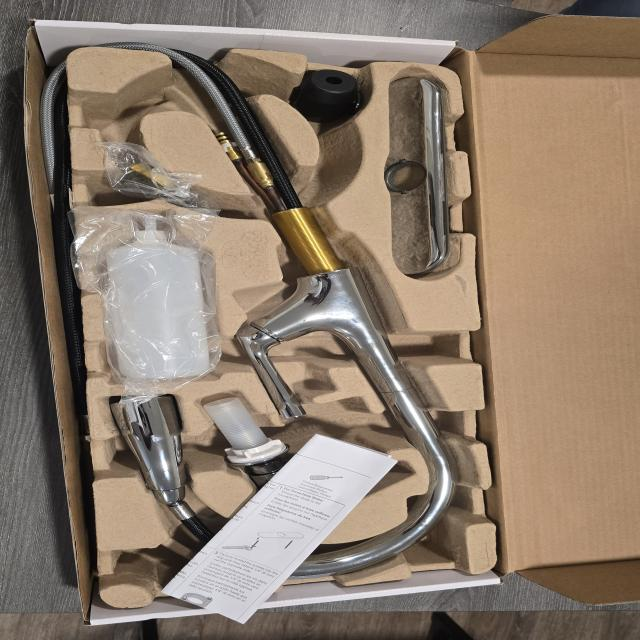1o: (109, 60, 462, 581)
2o: (200, 396, 404, 516)
3: (100, 214, 209, 376)
4: (385, 75, 450, 275)
5: (292, 69, 359, 125)
6: (109, 147, 198, 205)
7m: (106, 80, 179, 133)
8: (160, 434, 398, 624)
